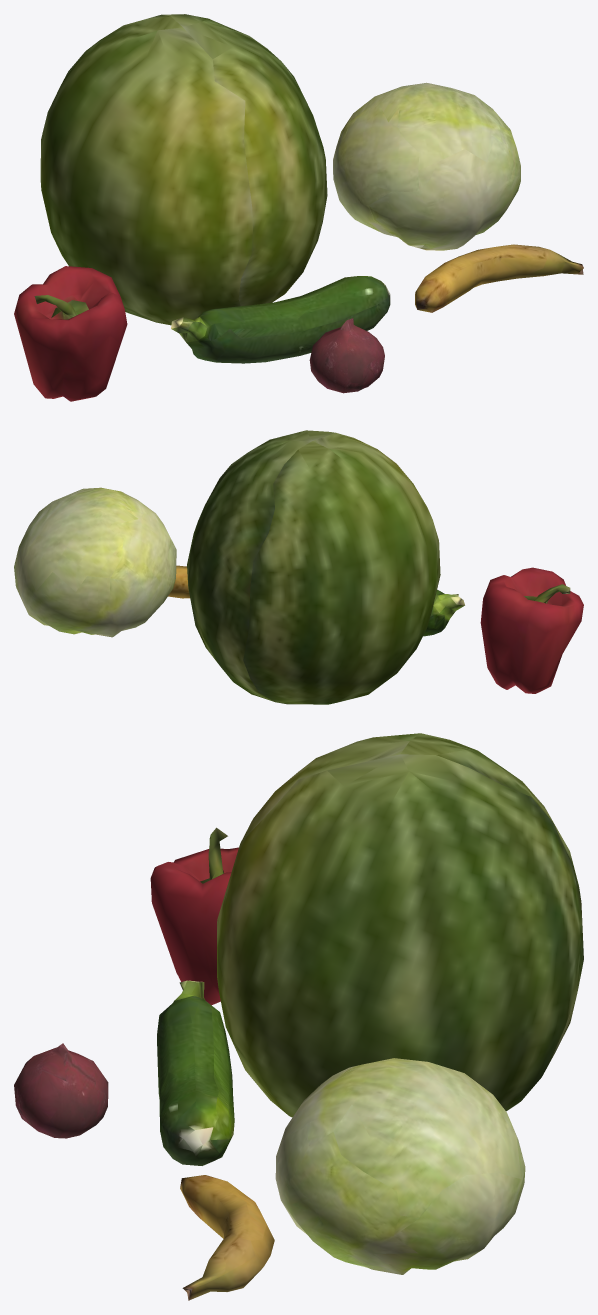
Rendered from Treatment_Diver.glb.
3 renders of one model, top to bottom at view 1: azimuth 30°, elevation 25°; view 2: azimuth 150°, elevation 25°; view 3: azimuth 270°, elevation 25°, orthographic. The views are drawn at different scales.
Parts seen in each view (by area): view 1: Watermelon, Cabbage, Pepper, Zuchinni, Banana, Onion; view 2: Watermelon, Cabbage, Pepper, Zuchinni, Banana; view 3: Watermelon, Cabbage, Zuchinni, Pepper, Banana, Onion.
Part boxes in pixels (<box>): Watermelon: <box>40,14,327,325</box>; Cabbage: <box>333,82,520,250</box>; Pepper: <box>14,266,127,401</box>; Zuchinni: <box>171,276,390,363</box>; Banana: <box>415,244,583,312</box>; Onion: <box>309,318,384,393</box>; Watermelon: <box>187,430,440,704</box>; Cabbage: <box>14,487,176,637</box>; Pepper: <box>480,567,583,693</box>; Zuchinni: <box>423,589,464,636</box>; Banana: <box>168,565,189,598</box>; Watermelon: <box>217,733,583,1117</box>; Cabbage: <box>275,1058,525,1274</box>; Zuchinni: <box>157,980,234,1165</box>; Pepper: <box>150,827,238,1005</box>; Banana: <box>180,1175,274,1300</box>; Onion: <box>14,1043,108,1138</box>.
Bounding box in the file's own units: 0.701 × 0.3428 × 0.4844.
Materials: 6 (6 with a texture image).
